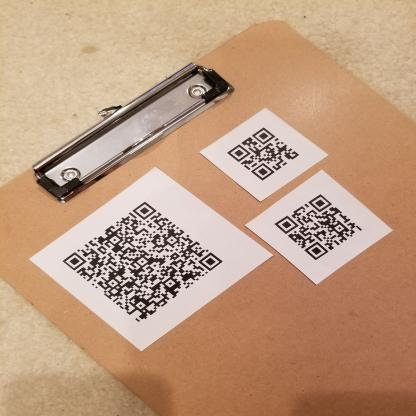qr: (60, 195, 235, 328), (270, 192, 365, 265), (225, 121, 302, 182)
